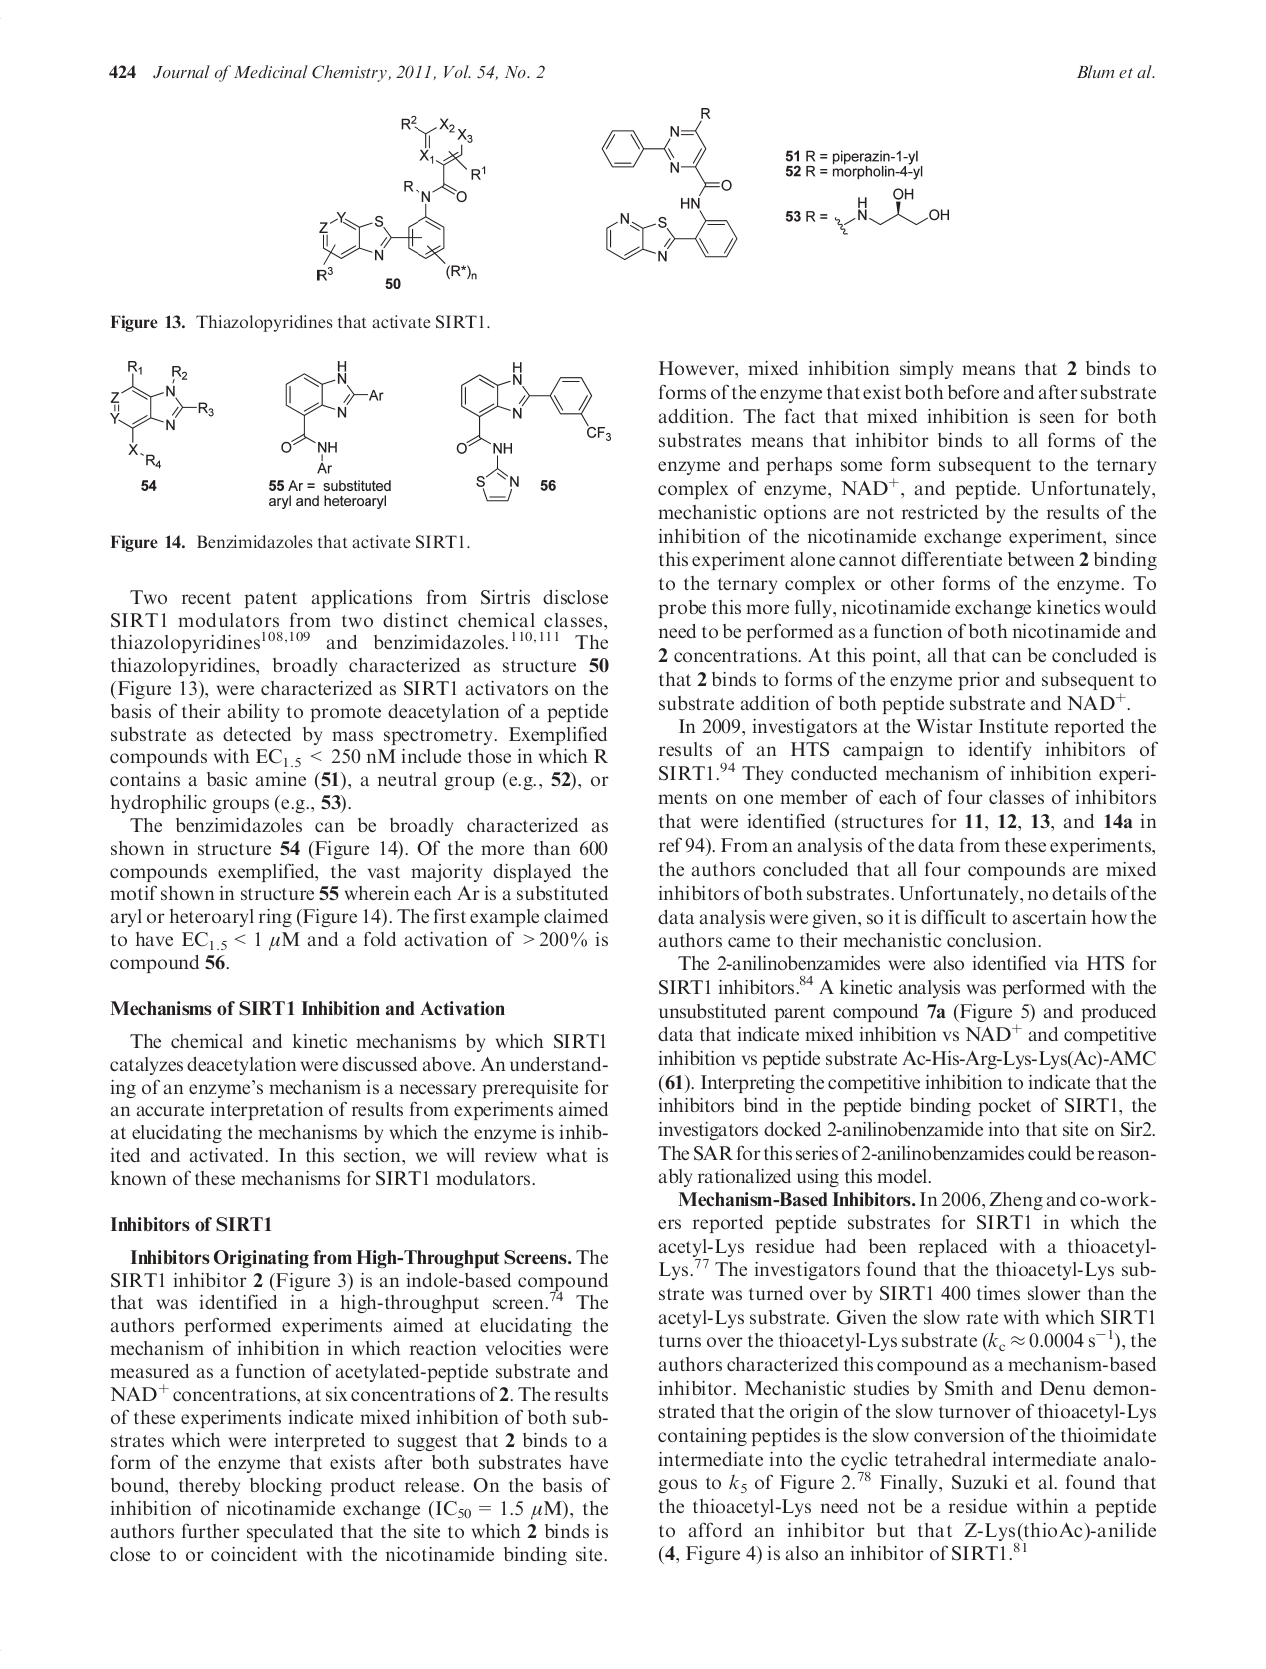exist_molecular: (314, 110, 485, 289), (594, 101, 742, 270), (453, 360, 614, 501), (102, 355, 217, 469), (278, 359, 386, 475), (832, 185, 957, 242)
